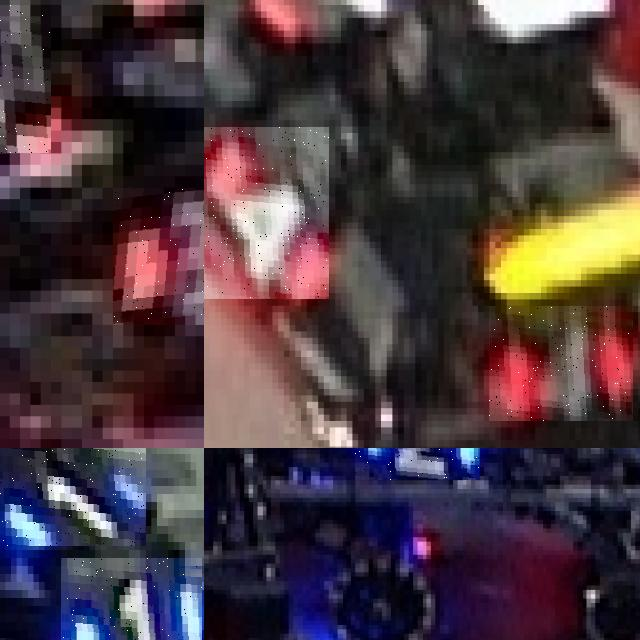B1: (0, 448, 146, 546), (61, 558, 201, 640)
B2: (355, 448, 479, 480)
R3: (113, 188, 204, 325), (0, 4, 51, 153)
R4: (204, 126, 329, 299), (489, 306, 633, 421)
